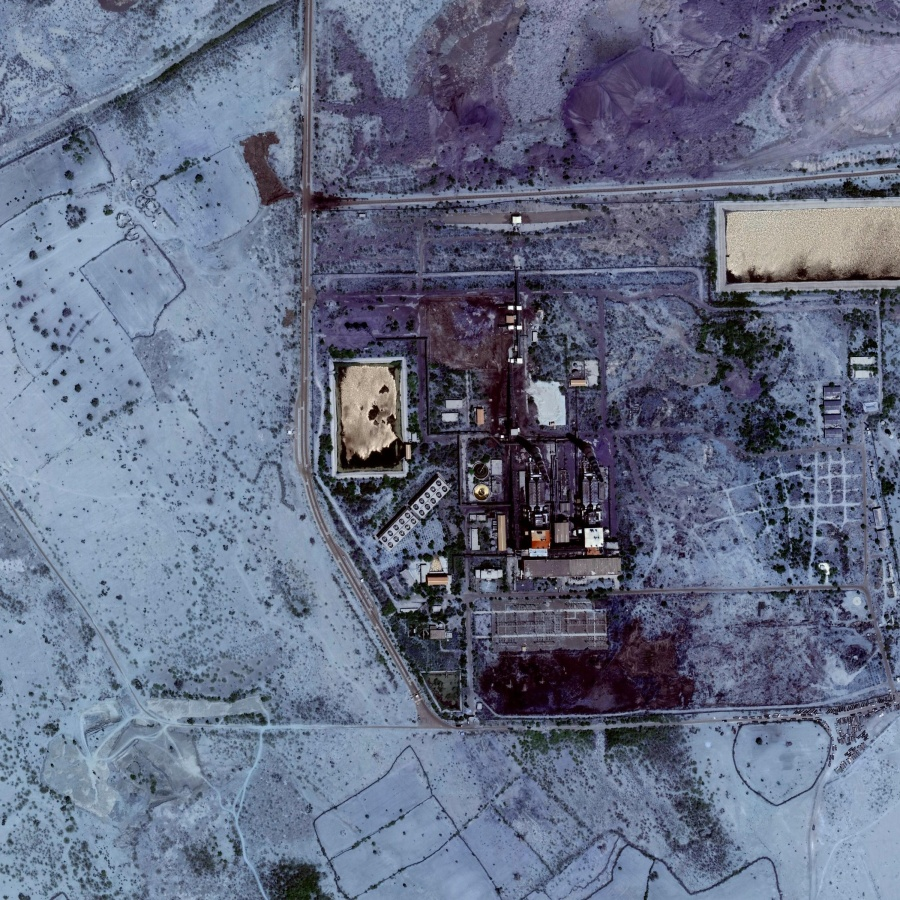PowerPlant: (316, 274, 687, 712)
